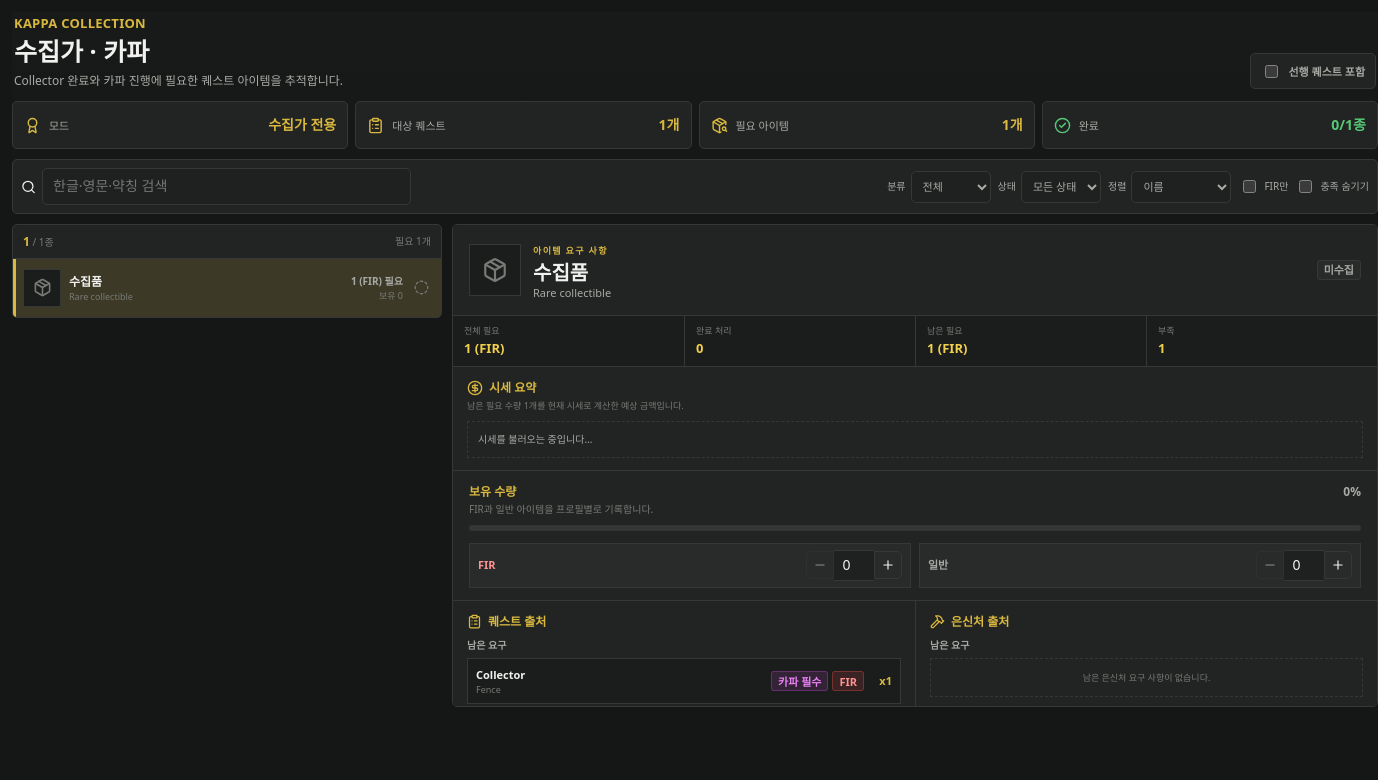
Test case: CollectorPage › starts with Collector-only items and optionally adds recursive prerequisites
Expected: the text "수집품" is shown, [69, 273, 102, 290]
Expected: the text "준비물" is not shown
Click the checkbox labelled "선행 퀘스트 포함". click: (1272, 72)
box: [1265, 65, 1278, 78]
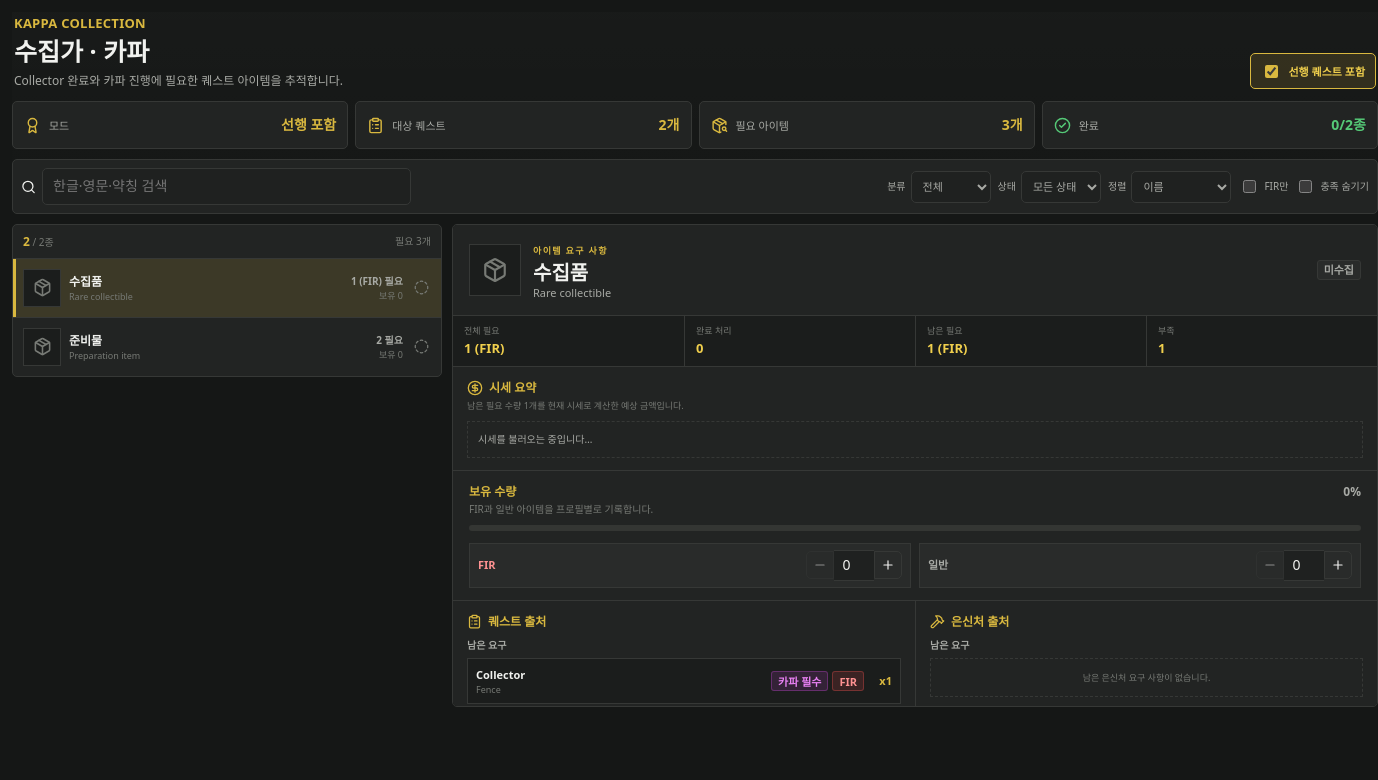
Result: the text "준비물" is shown at [69, 332, 102, 349]
Click the button with aria-label "준비물 상세 보기". click: (42, 347)
box: [13, 318, 441, 376]
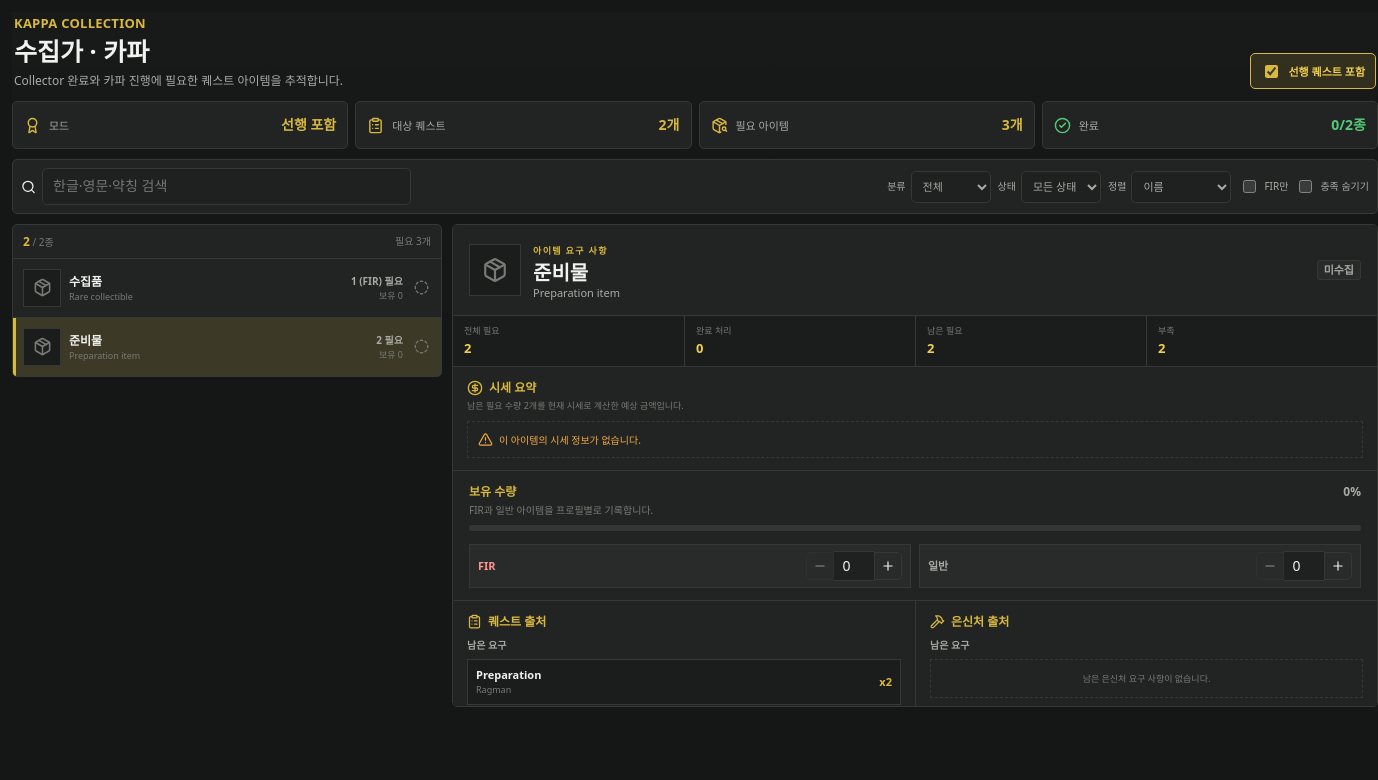
Result: the text "Preparation" is shown at [476, 667, 541, 683]
